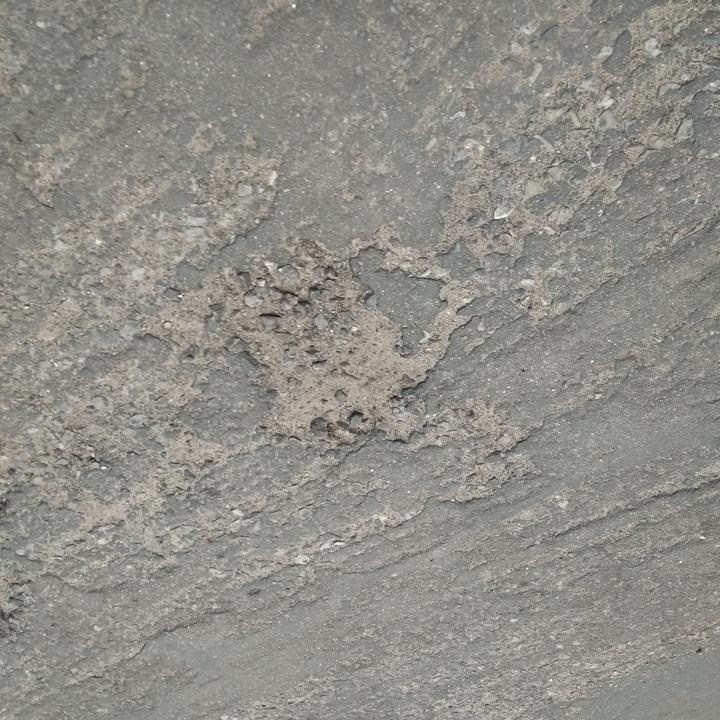pothole: (222, 251, 447, 456)
